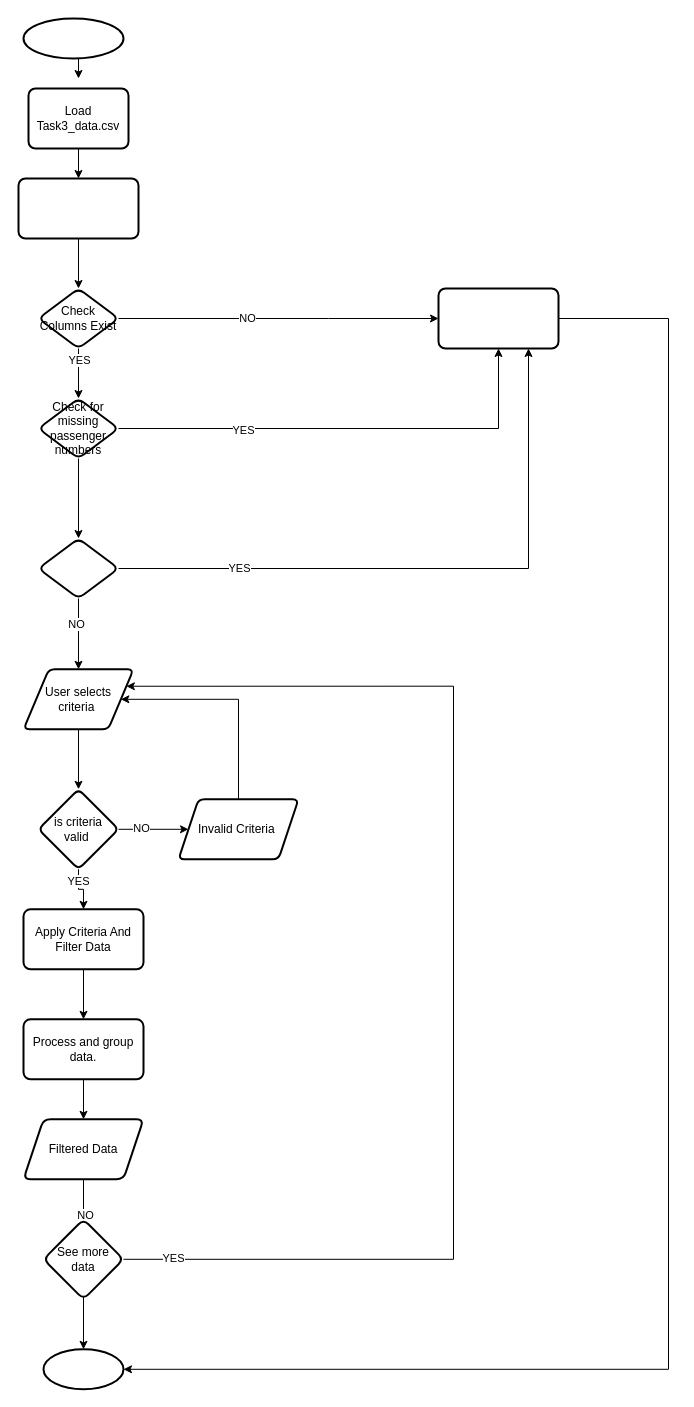
This 694x1407 diagram has some shape labels left out. The shapes that lost their labels are listed below. From the top down, each one's centre as x and y in pixels, then its label:
[73,38]: START
[78,208]: Validate Data
[498,318]: Error - Missing Columns
[78,568]: Check for missing date
[83,1369]: END
